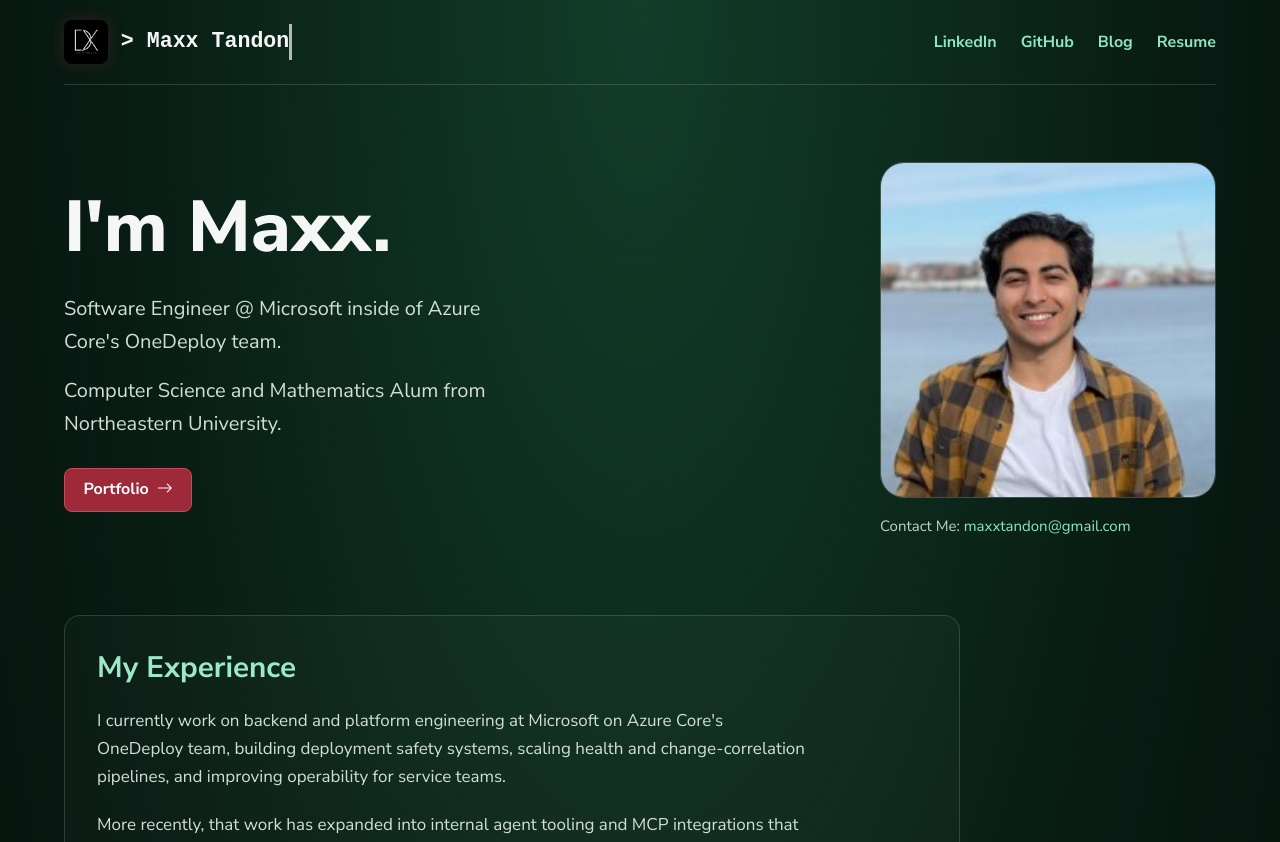
Test: internal navigation renders the portfolio through the existing router
Click the link "Portfolio". click: (128, 490)
box: [64,468,192,512]
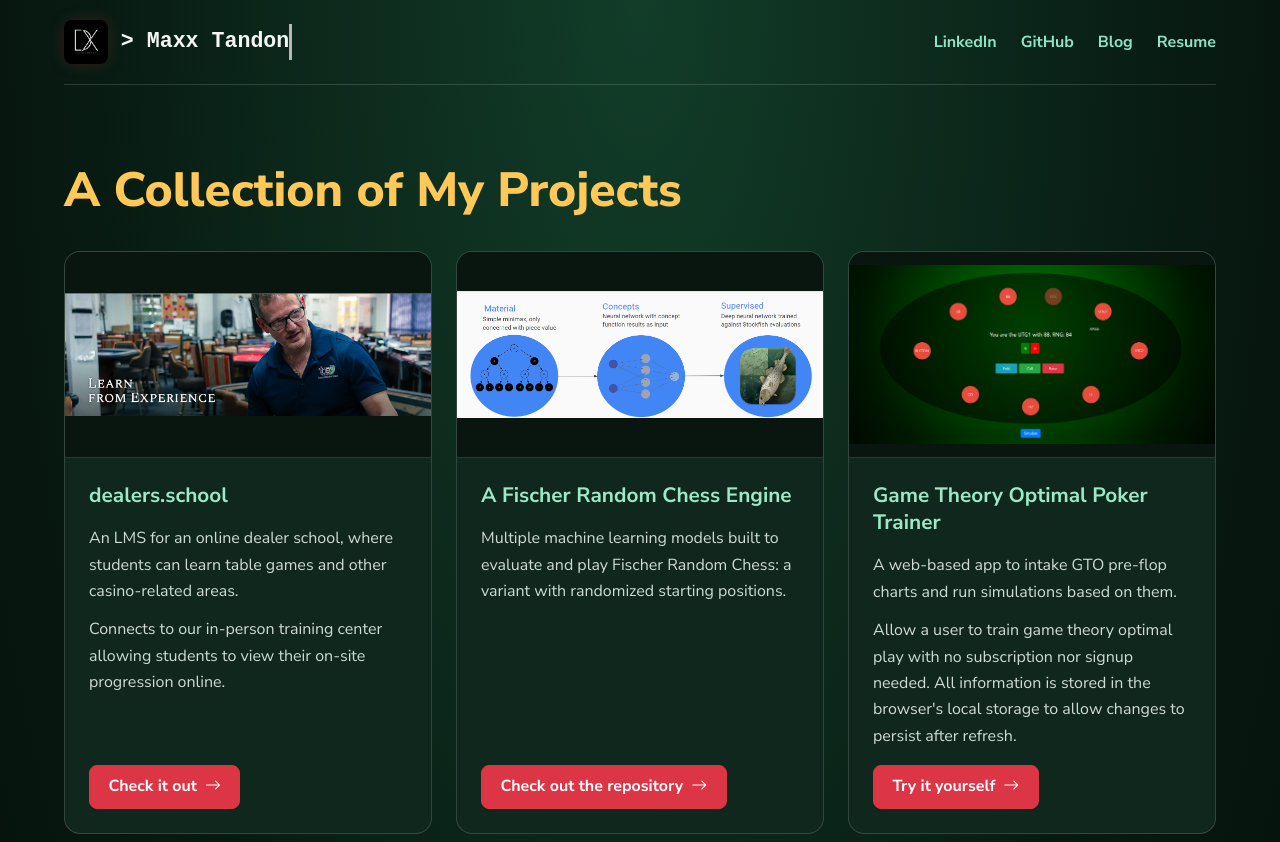
Result: the heading "A Collection of My Projects" is shown at [64,162,755,219]
